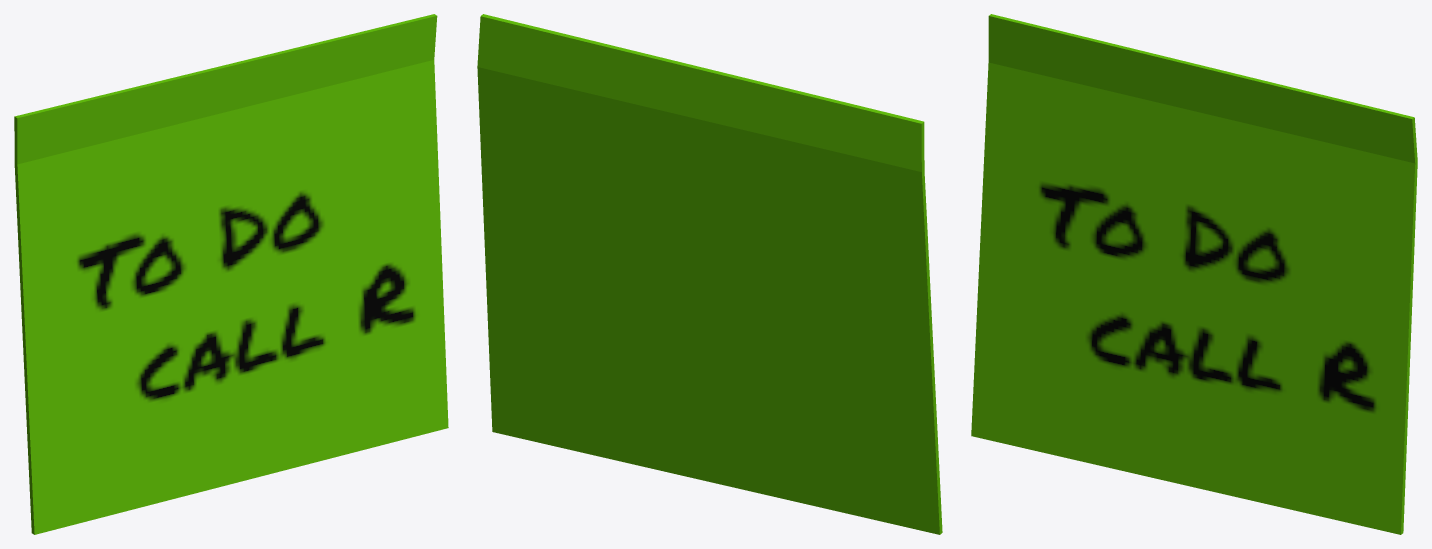
File: StickyNotesV4Green_T.fbx
3 renders of one model, left to right at view 1: azimuth 30°, elevation 25°; view 2: azimuth 150°, elevation 25°; view 3: azimuth 330°, elevation 25°, orthographic. The views are drawn at different scales.
Parts seen in each view (by area): view 1: StickyNotesV4Green_T; view 2: StickyNotesV4Green_T; view 3: StickyNotesV4Green_T.
Boxes of the visible parts, x1,y1,x2,y2 form: StickyNotesV4Green_T: (14, 14, 448, 534); StickyNotesV4Green_T: (477, 14, 942, 534); StickyNotesV4Green_T: (971, 14, 1417, 534).
Size of the model in its own units: 5.41 by 4.97 by 0.5116.
